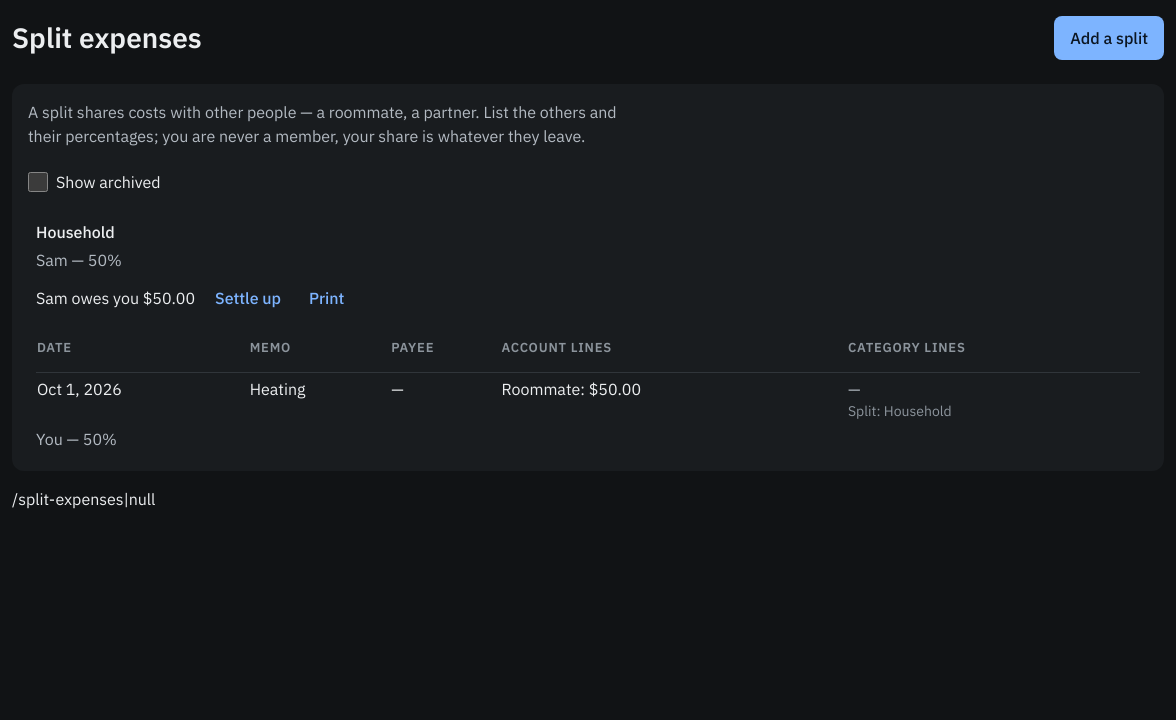
Test: the Split expenses page › Settle up opens the Ledger with their account taking the opposite of what they owe
What coordinates should you click on to do the following:
click the button "Settle up"
I would click on:
 (248, 298)
Its box is [207,276,289,320].
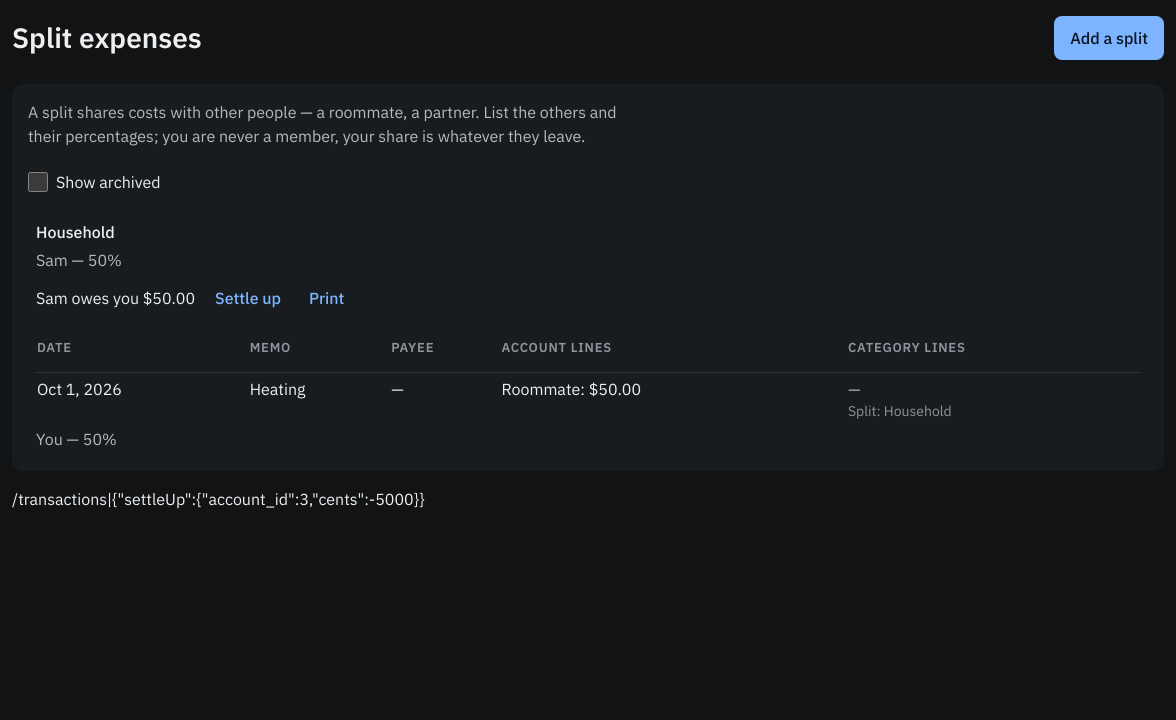
Check: the text with test id "where" reads "/transactions|{\"settleUp\":{\"account_id\":3,\"cents\":-5000}}", box [12,488,107,508]
